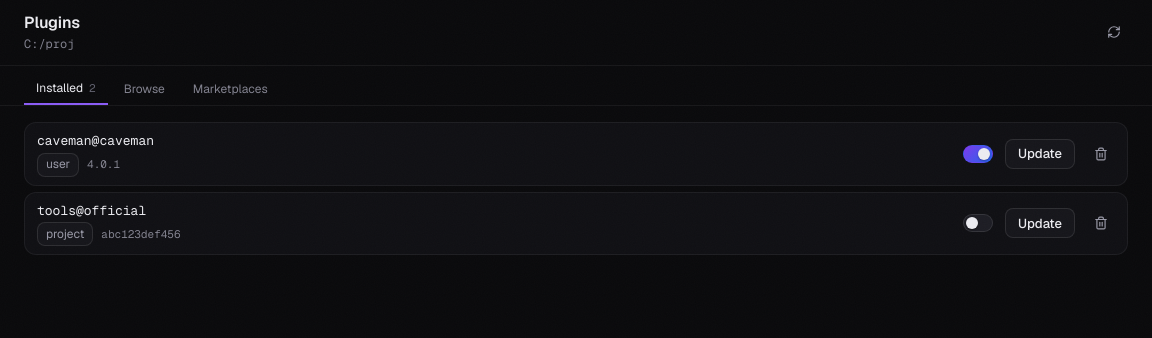
Test case: PluginsPage installed tab › shows the CLI failure with its output
Click the button "Update" in the row of "caveman@caveman".
click(1040, 154)  # box [1005, 139, 1075, 169]
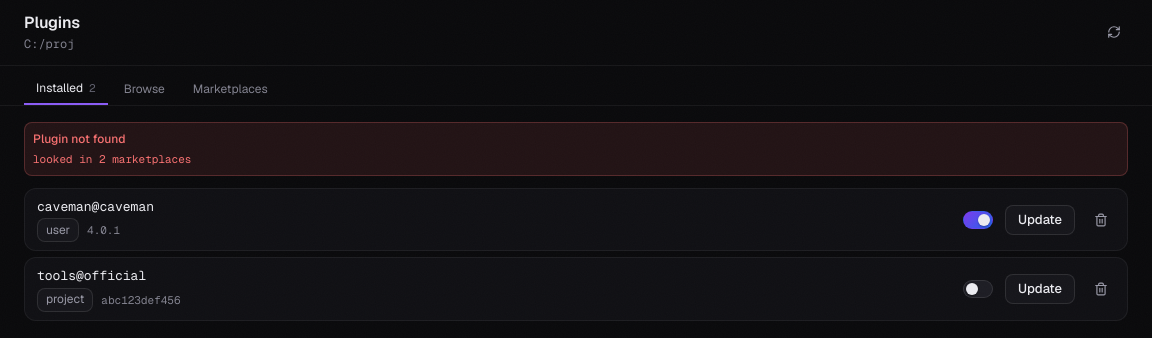
Check: the message with test id "plugins-failure" shows "Plugin not found", box [33, 131, 126, 147]
Check: the message with test id "plugins-failure" shows "looked in 2 marketplaces", box [33, 152, 191, 166]
